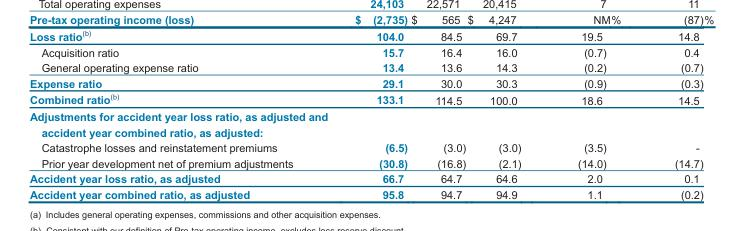table: (29, 28, 702, 200)
table column: (29, 28, 334, 200), (548, 28, 639, 200), (334, 28, 420, 200), (477, 28, 548, 200), (639, 28, 702, 200), (420, 28, 477, 200)
table column header: (29, 28, 702, 44)
table projected row header: (29, 108, 702, 124), (29, 124, 702, 139)
table row: (29, 90, 702, 108), (29, 28, 702, 44), (29, 59, 702, 75), (29, 108, 702, 124), (29, 139, 702, 155), (29, 170, 702, 186), (29, 44, 702, 59), (29, 75, 702, 90), (29, 124, 702, 139), (29, 155, 702, 170), (29, 186, 702, 200)
